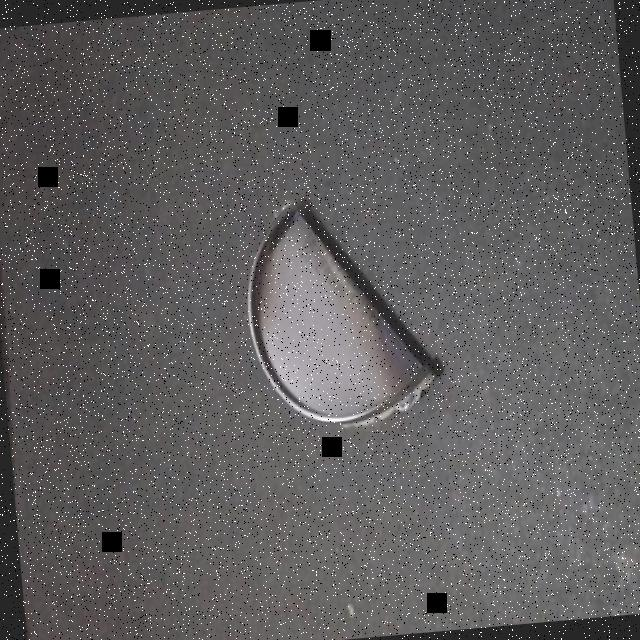can: (232, 180, 448, 440)
